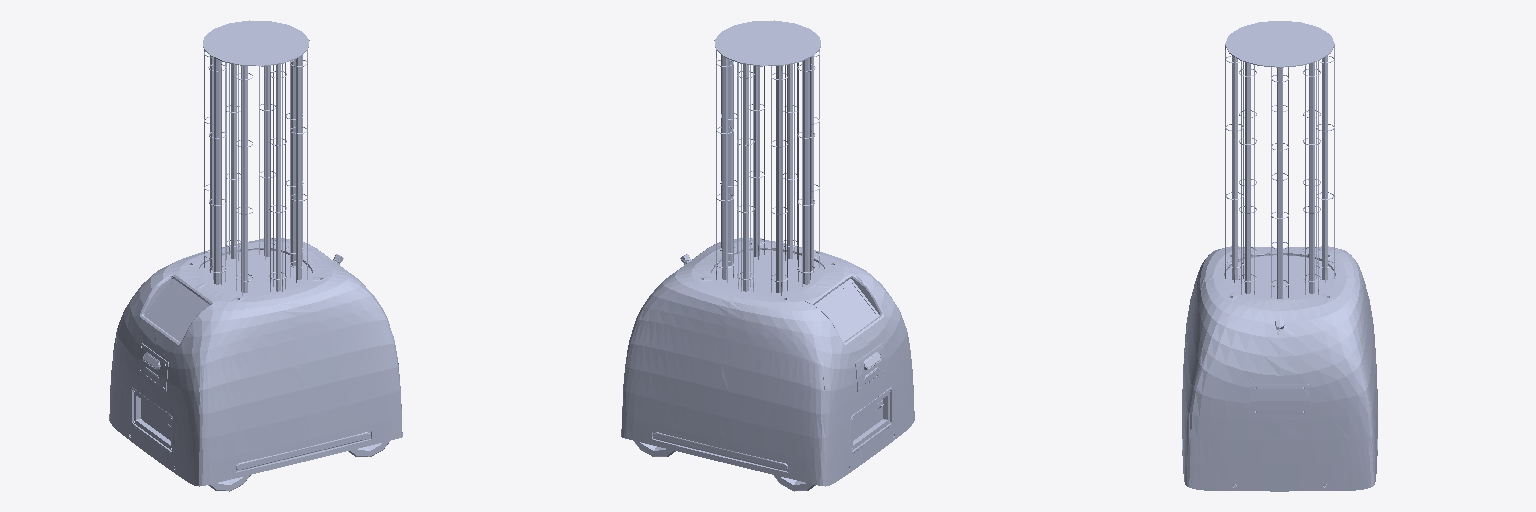
robot.urdf — platform:
<?xml version="1.0" encoding="utf-8"?>

<robot name="platform">
  <link name="base_link">
    <visual>
      <origin
        xyz="0 0 0.055"
        rpy="1.5708 0 0" />
      <geometry>
          <mesh filename="package://mastermind/urdf/meshes/robot2.stl" scale="0.001 0.001 0.001" />
      </geometry>
      <material
        name="">
        <color
          rgba="0.78216 0.80961 0.91333 1" />
      </material>
    </visual>
  </link>
</robot>

--- Render facts (derived) ---
3 views of the same robot in one strip: view 1: azimuth 30°, elevation 25°; view 2: azimuth 150°, elevation 25°; view 3: azimuth 270°, elevation 25° (orthographic).
Robot: platform — 1 links, 0 joints (none); root link base_link; default pose: every joint at zero.
Links seen in each view (by area): view 1: base_link; view 2: base_link; view 3: base_link.
Link boxes in pixels (x1,y1,x2,y2): base_link: (109, 20, 402, 491); base_link: (621, 20, 914, 491); base_link: (1182, 21, 1377, 491).
Size in the robot's own frame: 0.768 by 0.6069 by 1.39 metres.
1 mesh visuals loaded from 1 distinct referenced files (1 binary STL).